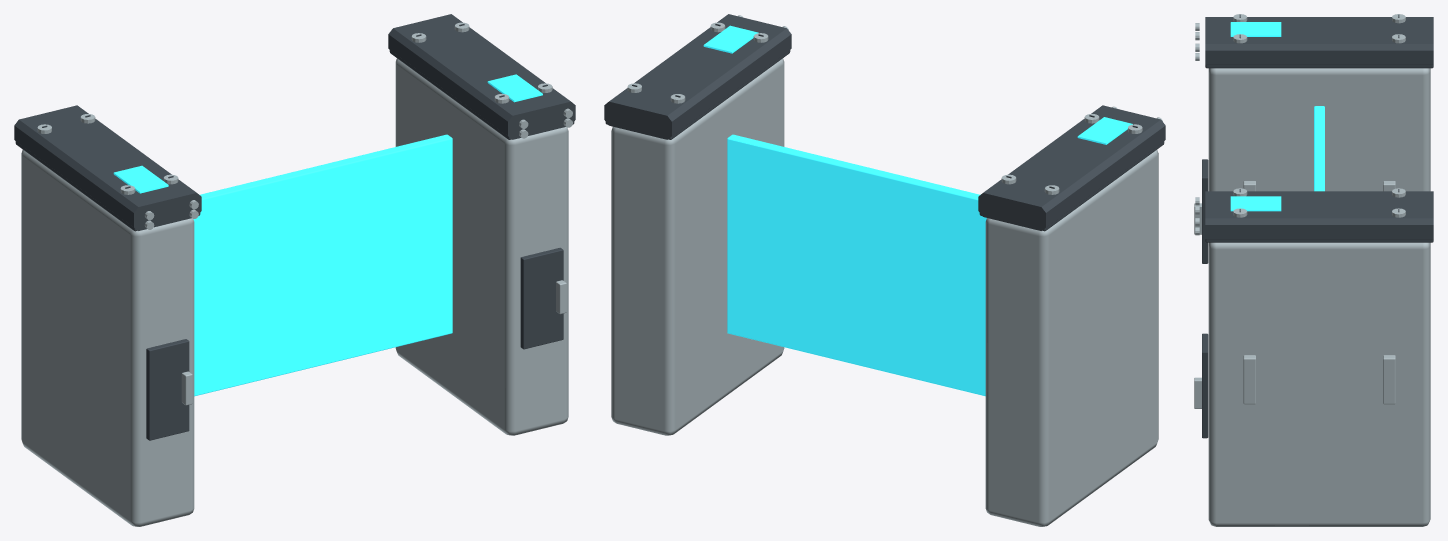
The model's file is data-centre-infiltration-kit-data-centre-infiltration--0383ebd7__29258.glb.
3 renders of one model, left to right at view 1: azimuth 30°, elevation 25°; view 2: azimuth 150°, elevation 25°; view 3: azimuth 270°, elevation 25°, orthographic. The views are drawn at different scales.
Parts seen in each view (by area): view 1: data-centre-infiltration-kit-security-turnstile; view 2: data-centre-infiltration-kit-security-turnstile; view 3: data-centre-infiltration-kit-security-turnstile.
Part boxes in pixels (<box>): data-centre-infiltration-kit-security-turnstile: <box>14,14,575,526</box>; data-centre-infiltration-kit-security-turnstile: <box>604,14,1165,526</box>; data-centre-infiltration-kit-security-turnstile: <box>1194,14,1433,526</box>.
Size of the model in its own units: 1.56 by 1.1 by 0.755.
